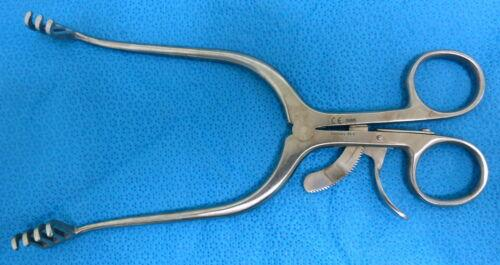Self Retractor: (4, 2, 485, 254)
